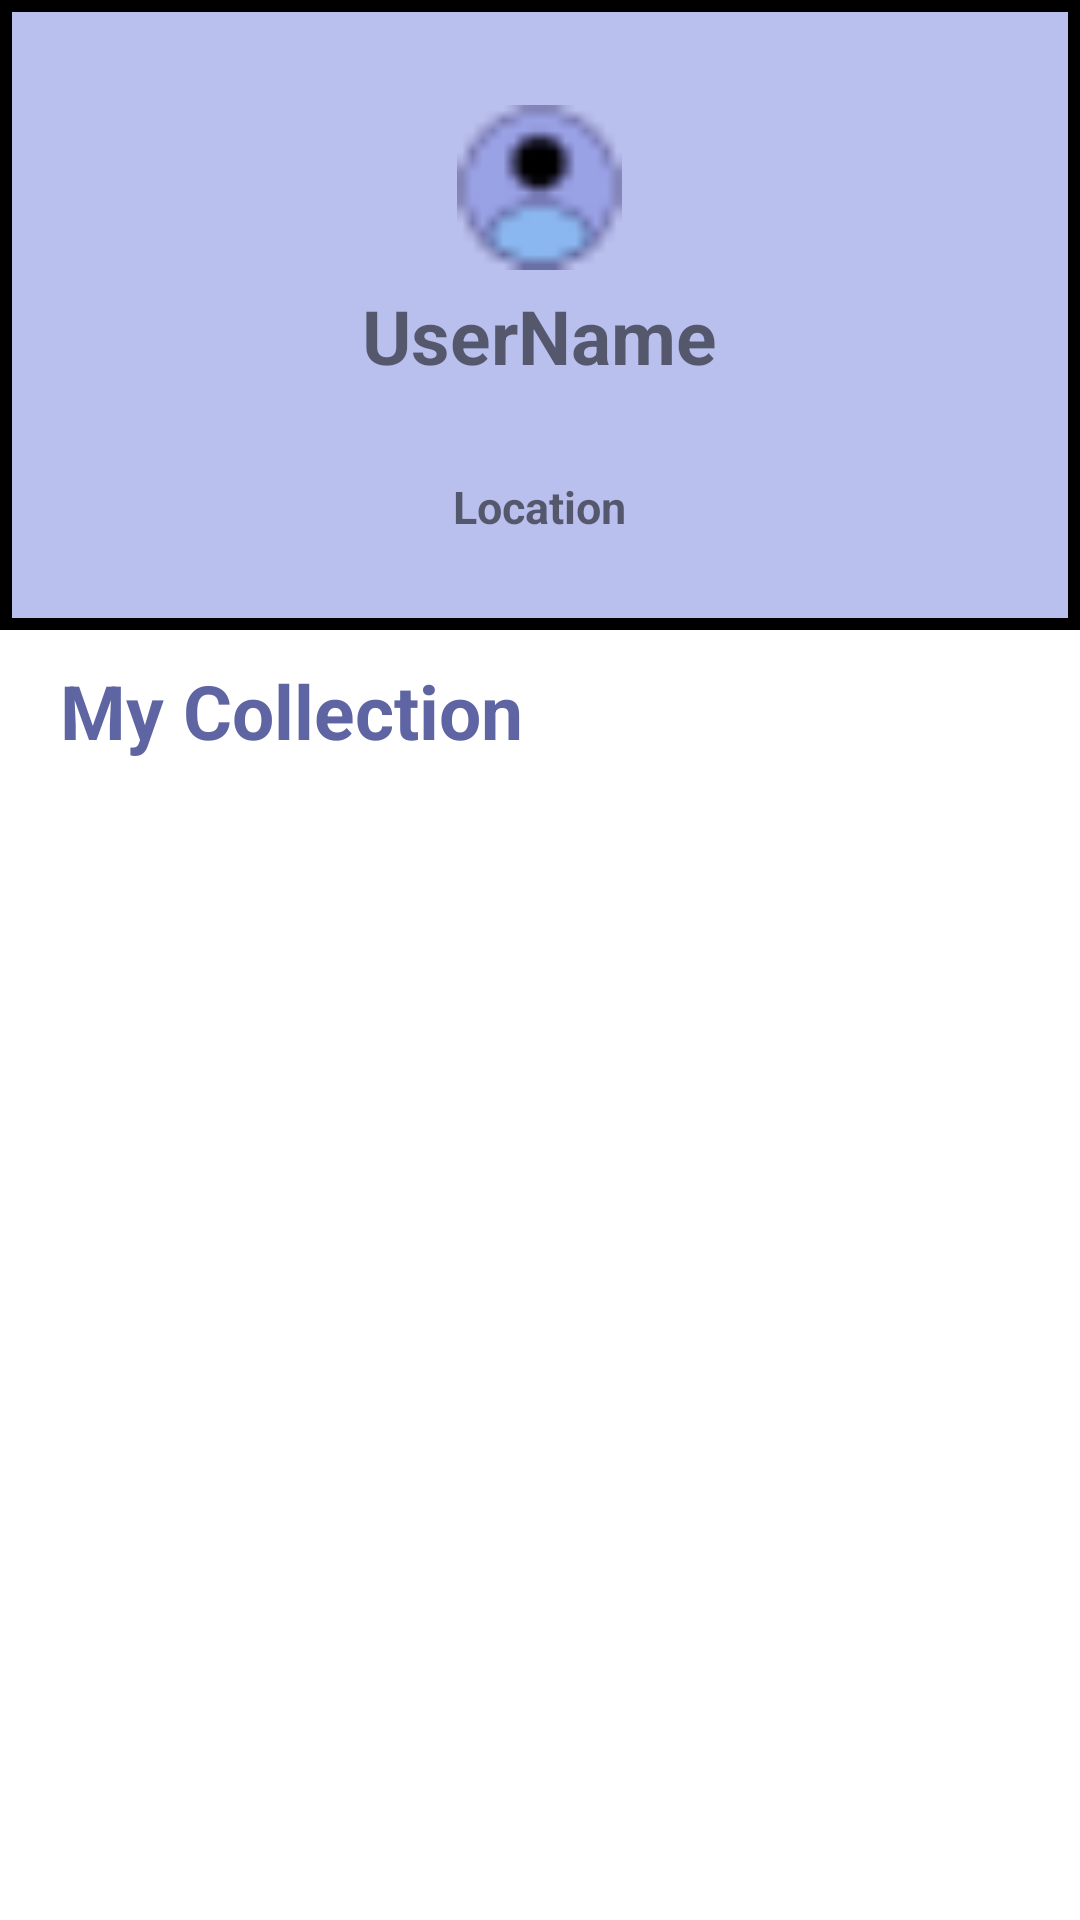

Screen size 1080px×1920px. Icon name, then its box in pixels as [x1,y1,x2,y2]:
profile: [457,105,622,270]
